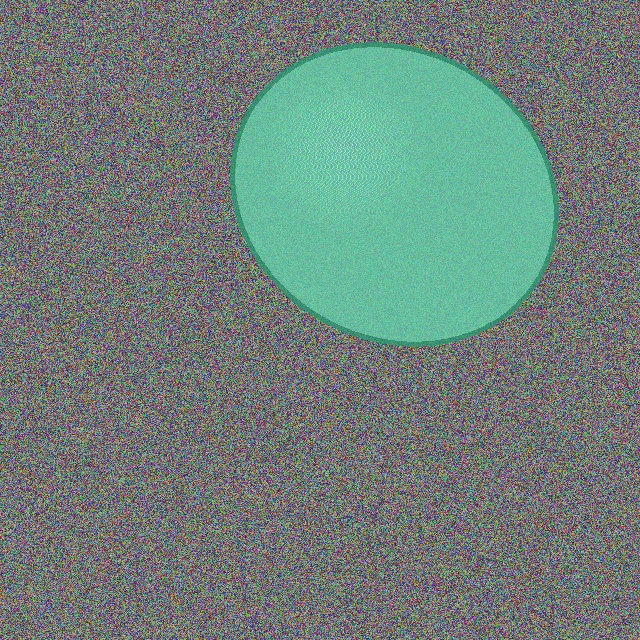lens: (233, 44, 555, 344)
